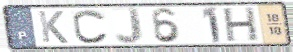1: (201, 6, 223, 44)
6: (151, 7, 182, 45)
C: (71, 8, 110, 45)
H: (223, 6, 260, 44)
J: (114, 6, 145, 46)
K: (36, 9, 70, 44)
